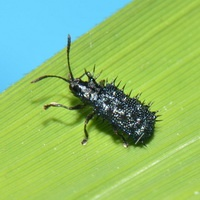insect: (31, 35, 156, 146)
